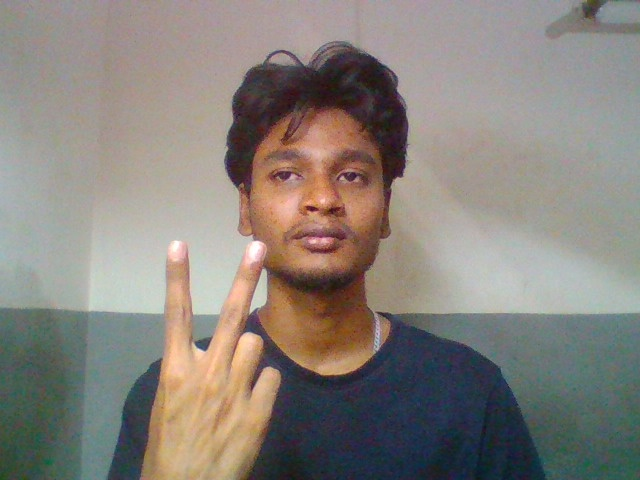V: (138, 227, 284, 480)
